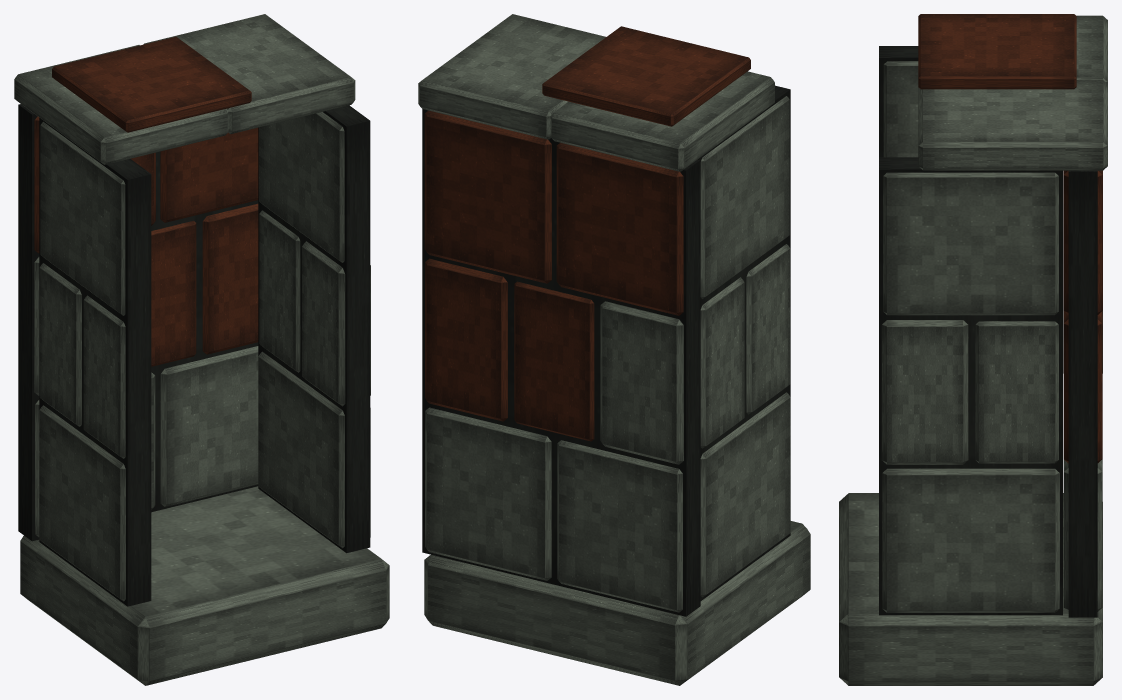
The model's file is THStage_FindSupport_13.fbx.
The picture shows the model from 3 angles, left to right: view 1: azimuth 30°, elevation 25°; view 2: azimuth 150°, elevation 25°; view 3: azimuth 270°, elevation 25°; orthographic projection. The views are drawn at different scales.
Visible parts, largest first — view 1: THStage_FindSupport_13; view 2: THStage_FindSupport_13; view 3: THStage_FindSupport_13.
Part boxes in pixels (x1,y1,x2,y2): THStage_FindSupport_13: [14, 14, 389, 685]; THStage_FindSupport_13: [418, 14, 810, 685]; THStage_FindSupport_13: [839, 14, 1107, 685].
Size of the model in its own units: 0.384 by 0.7724 by 0.336.
1 material, 1 textured.
